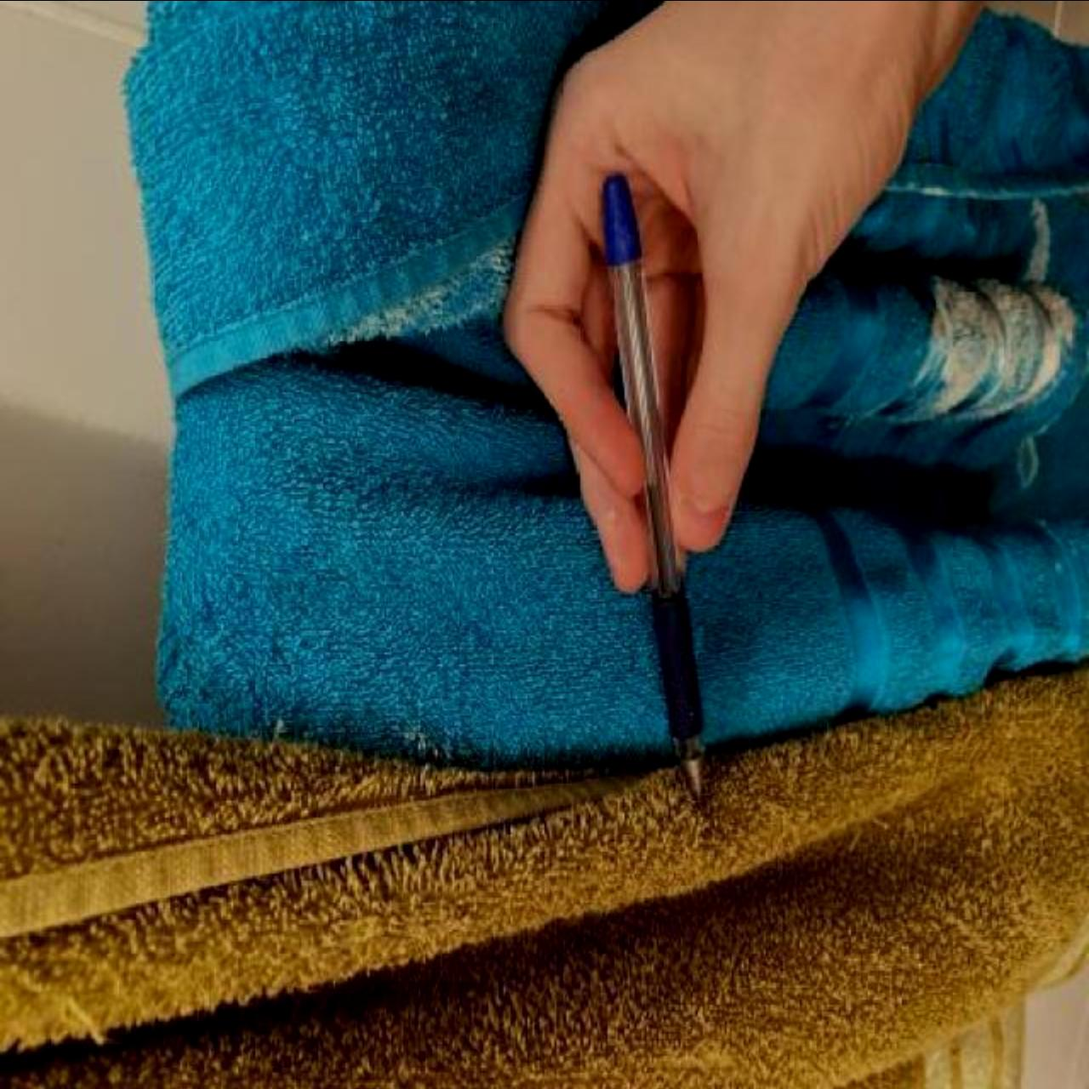pen: (597, 172, 713, 803)
